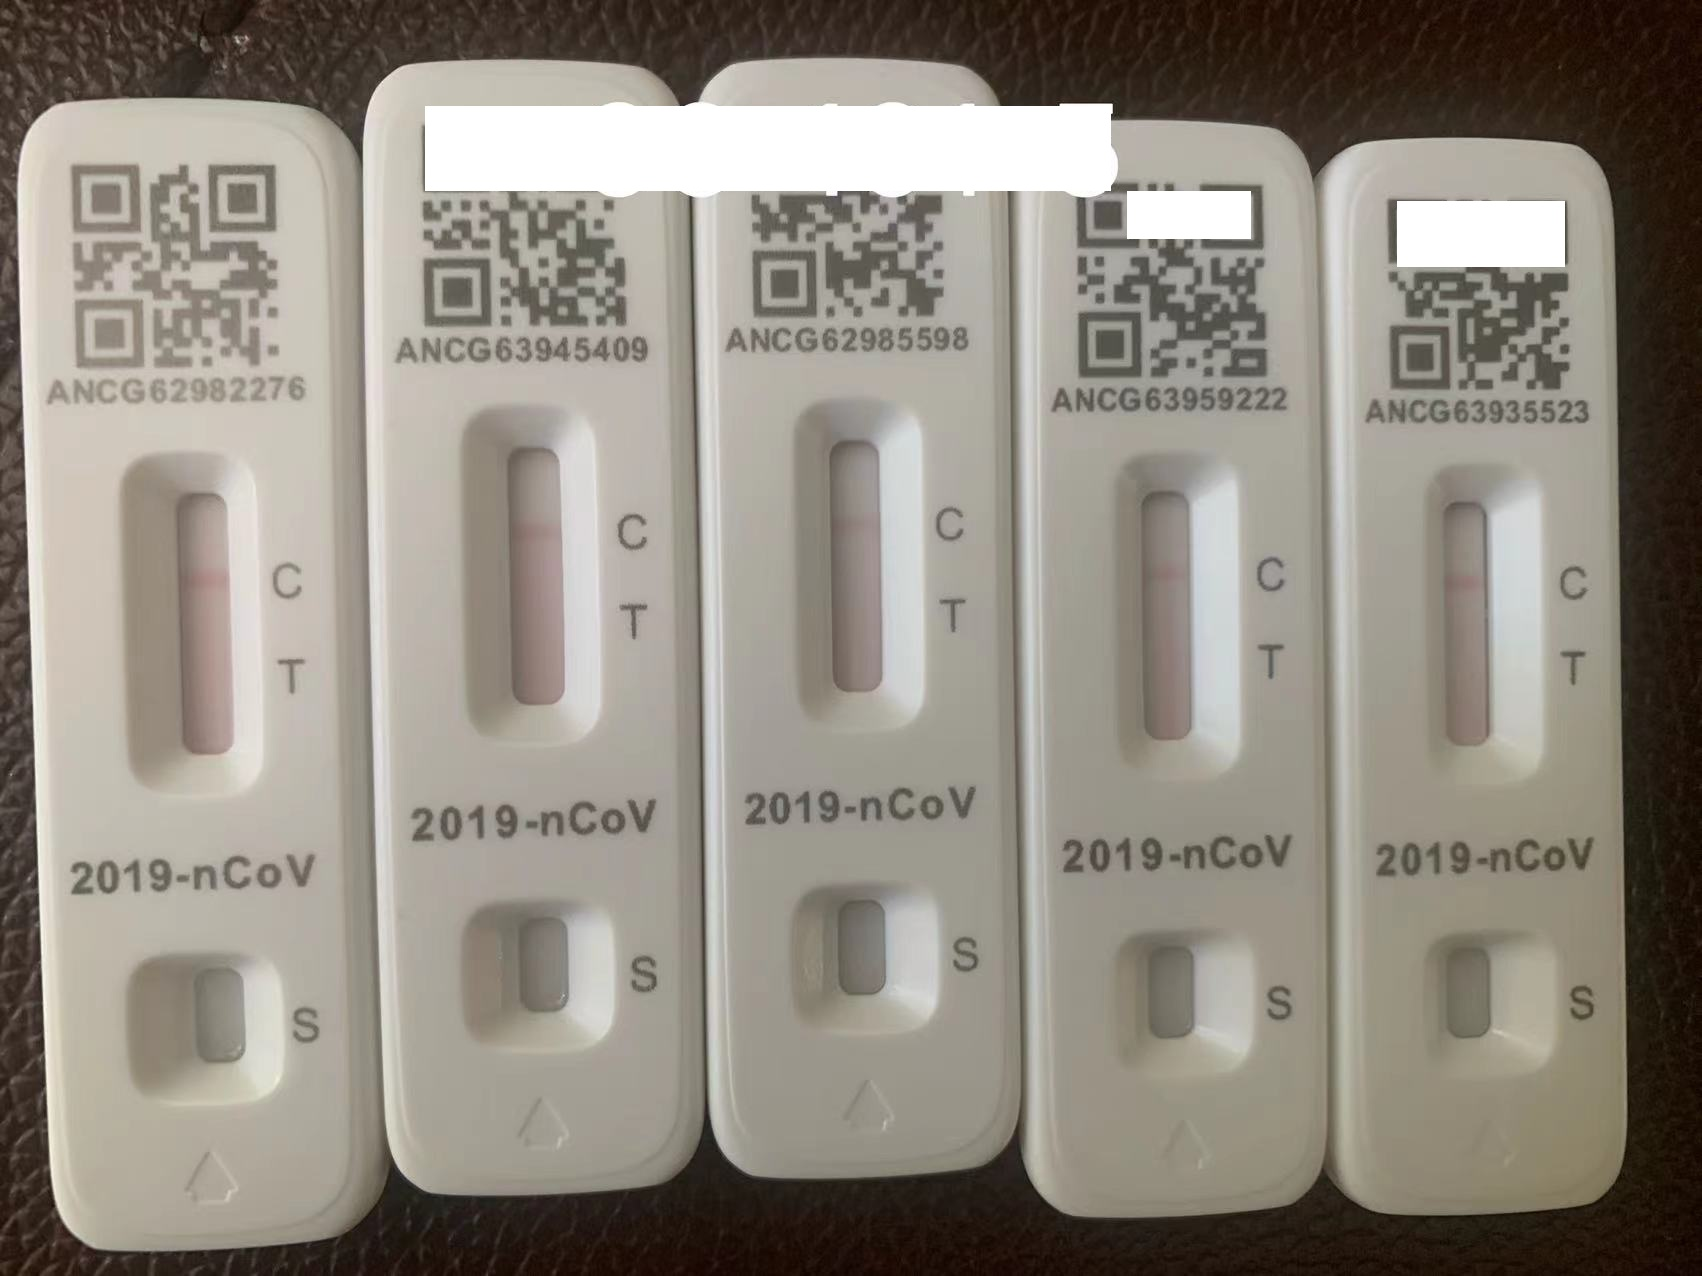negative: (121, 457, 261, 811), (462, 406, 595, 757), (793, 402, 922, 745), (1421, 460, 1539, 797), (1114, 449, 1232, 785)
